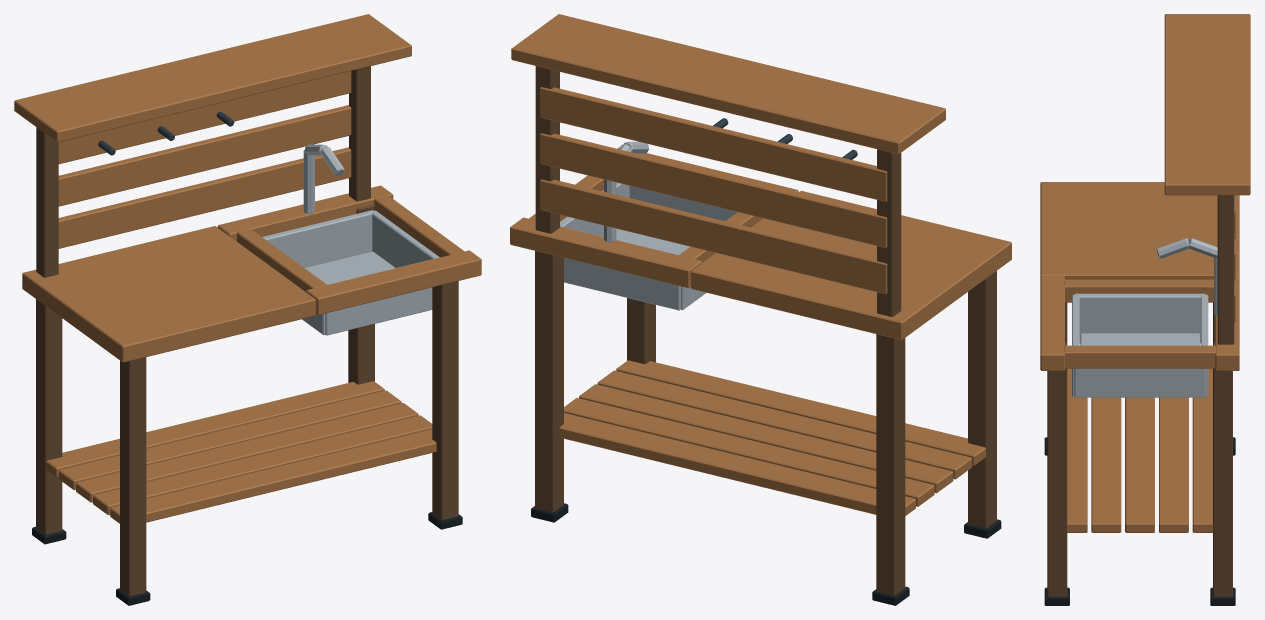
Rendered from b11_garden_potting_bench_with_sink.glb.
3 renders of one model, left to right at view 1: azimuth 30°, elevation 25°; view 2: azimuth 150°, elevation 25°; view 3: azimuth 270°, elevation 25°, orthographic. The views are drawn at different scales.
Parts seen in each view (by area): view 1: b11_garden_potting_bench_with_sink; view 2: b11_garden_potting_bench_with_sink; view 3: b11_garden_potting_bench_with_sink.
Part boxes in pixels (<box>): b11_garden_potting_bench_with_sink: <box>14,14,481,605</box>; b11_garden_potting_bench_with_sink: <box>510,14,1011,605</box>; b11_garden_potting_bench_with_sink: <box>1040,14,1250,605</box>.
Size of the model in its own units: 1.35 by 1.53 by 0.685.
